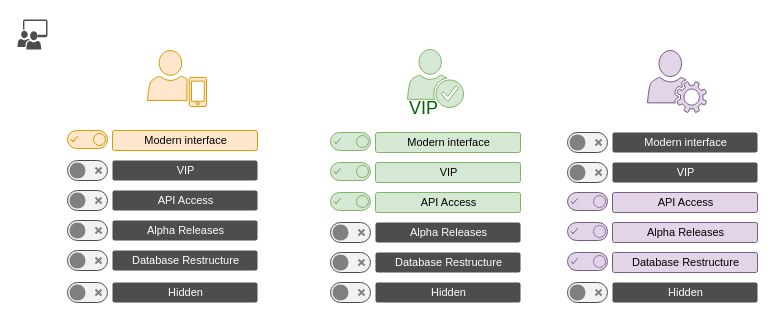
The diagram is 775 pixels wide and 320 high, and some of its shapes have lost their labels. Here are the shapes that lost their labels. From the top down, the centre of each, then its label:
At pixel 32 34: "User segments".
At pixel 176 78: "MOBILE".
At pixel 676 81: "TESTER".
